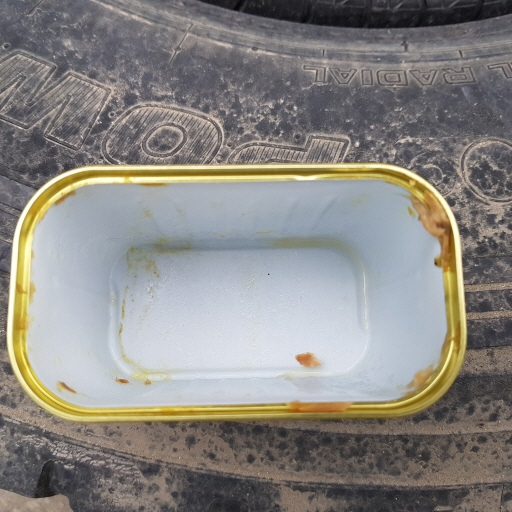Metal_2: (6, 162, 470, 425)
